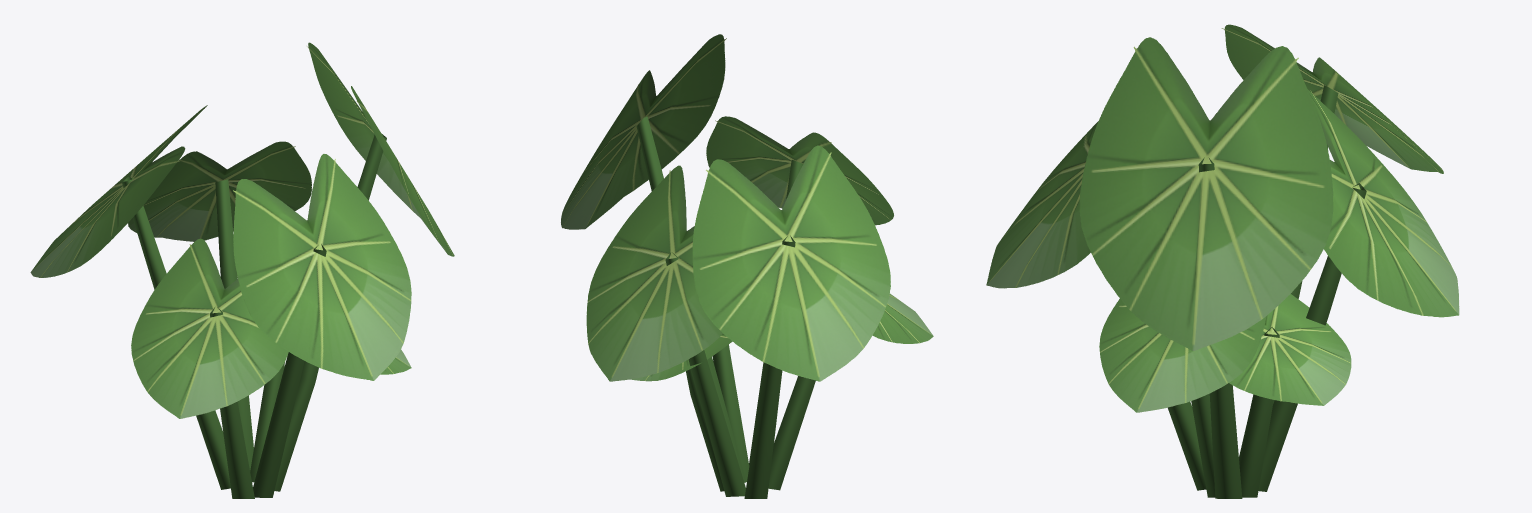
The model's file is keladi.glb.
The picture shows the model from 3 angles, left to right: view 1: azimuth 30°, elevation 25°; view 2: azimuth 150°, elevation 25°; view 3: azimuth 270°, elevation 25°; orthographic projection. The views are drawn at different scales.
Parts seen in each view (by area): view 1: keladi_mesh; view 2: keladi_mesh; view 3: keladi_mesh.
Part boxes in pixels (x1,y1,x2,y2): keladi_mesh: (30, 42, 454, 498); keladi_mesh: (561, 34, 933, 498); keladi_mesh: (986, 24, 1459, 498).
Bounding box in the file's own units: 0.9917 × 0.9872 × 0.9727.
1 material, 1 textured.
